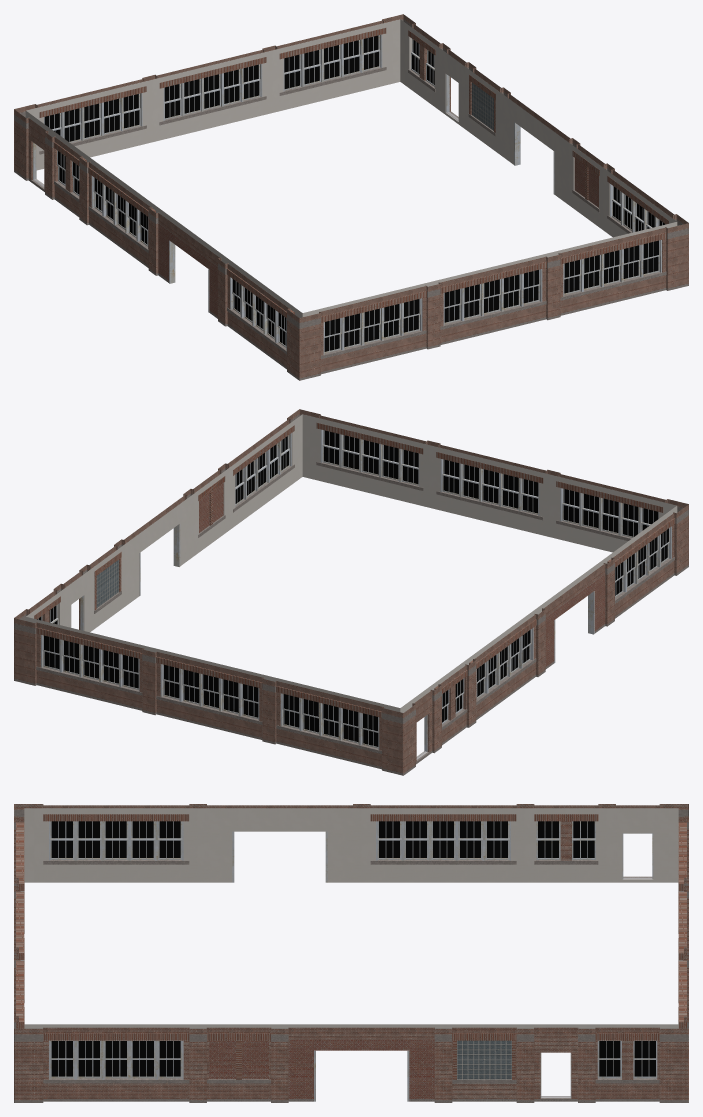
The model's file is BuildingE_Bottom_VarB.fbx.
The picture shows the model from 3 angles, top to bottom: view 1: azimuth 30°, elevation 25°; view 2: azimuth 150°, elevation 25°; view 3: azimuth 270°, elevation 25°; orthographic projection. The views are drawn at different scales.
Parts seen in each view (by area): view 1: BuildingE_Bottom_VarB; view 2: BuildingE_Bottom_VarB; view 3: BuildingE_Bottom_VarB.
Boxes of the visible parts, box(x1,y1,x2,y2) form: BuildingE_Bottom_VarB: box(14, 14, 688, 380); BuildingE_Bottom_VarB: box(14, 409, 688, 775); BuildingE_Bottom_VarB: box(14, 804, 688, 1102).
Bounding box in the file's own units: 2600 × 400 × 3300.
